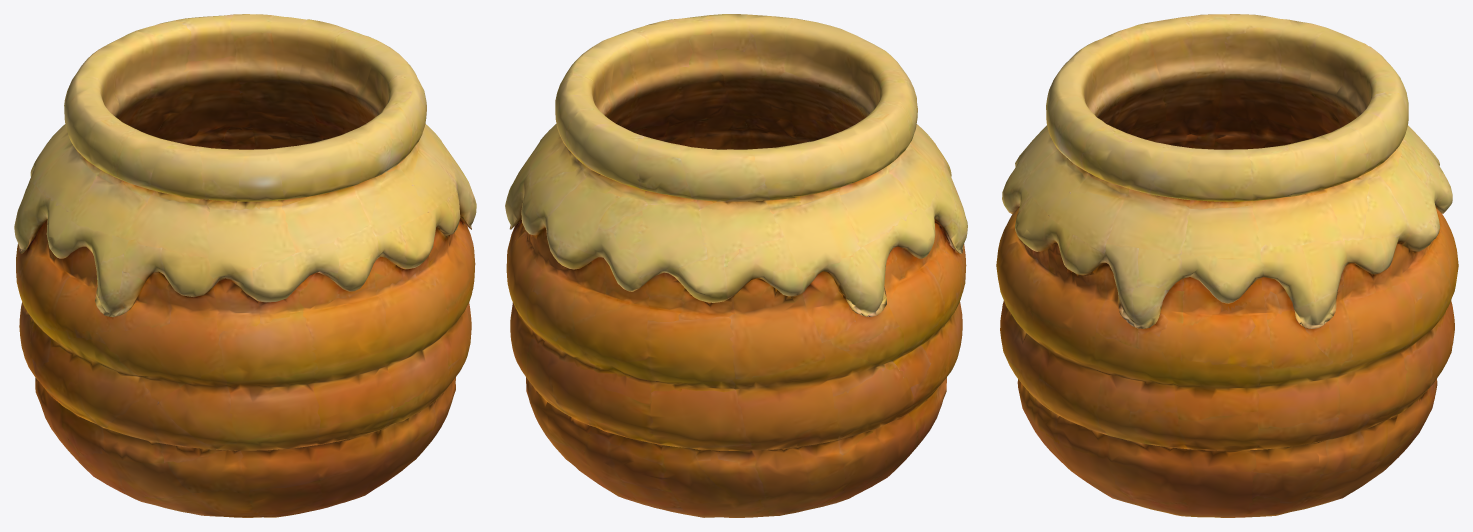
3 views of the same model, side by side, from view 1: azimuth 30°, elevation 25°; view 2: azimuth 150°, elevation 25°; view 3: azimuth 270°, elevation 25° (orthographic).
Size of the model in its own units: 1.9 by 1.7 by 1.9.
1 material, 1 textured.
